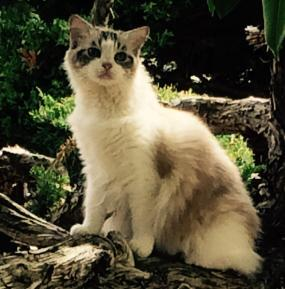ragdoll: (61, 9, 154, 98)
